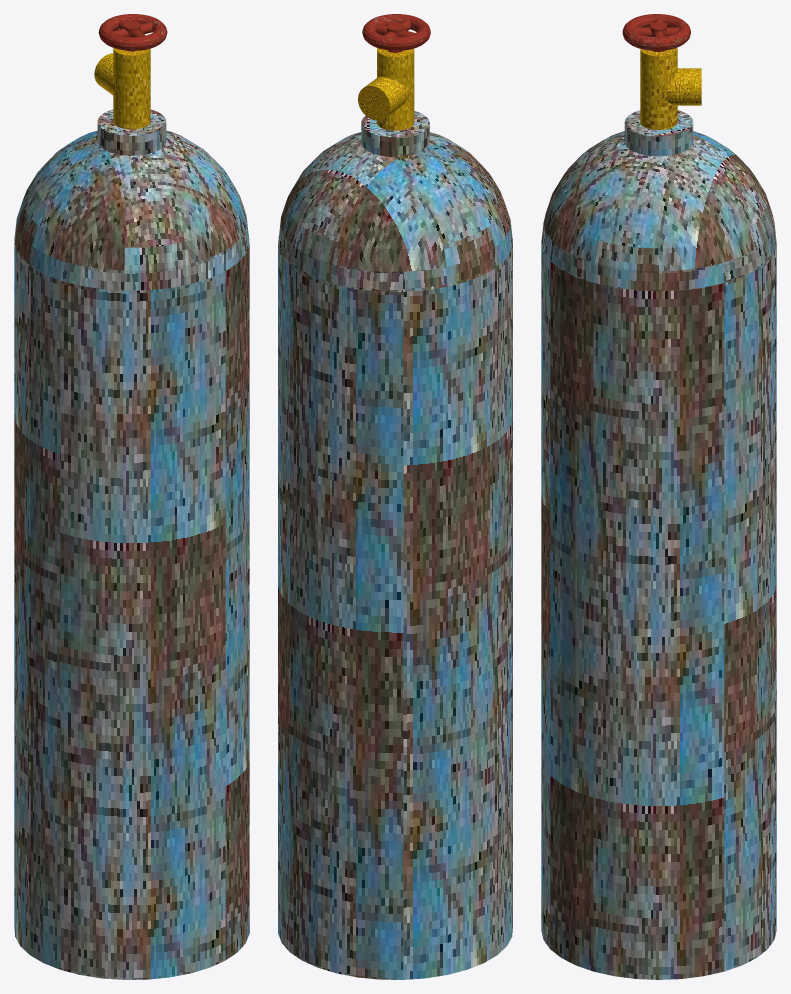
File: clean_o2.glb
3 renders of one model, left to right at view 1: azimuth 30°, elevation 25°; view 2: azimuth 150°, elevation 25°; view 3: azimuth 270°, elevation 25°, orthographic.
Parts seen in each view (by area): view 1: Тор; view 2: Тор; view 3: Тор.
Boxes of the visible parts, x1,y1,x2,y2 form: Тор: [14, 14, 249, 979]; Тор: [278, 14, 512, 979]; Тор: [541, 14, 776, 979].
Size of the model in its own units: 6.86 by 29.06 by 6.86.
3 materials, 3 textured.
